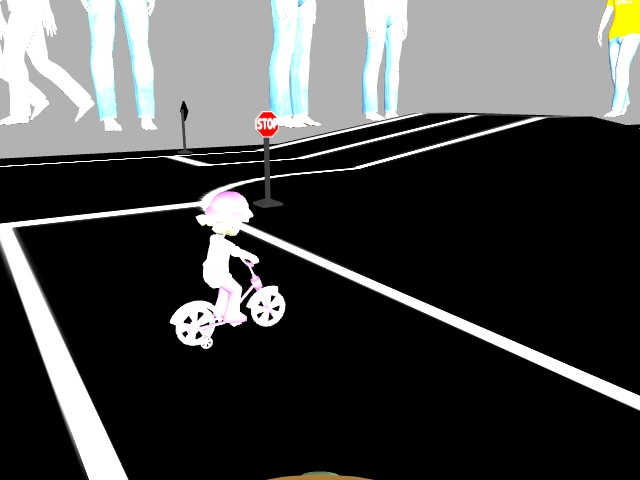Pedestrian: (166, 189, 295, 355)
Stop: (251, 108, 280, 137)
